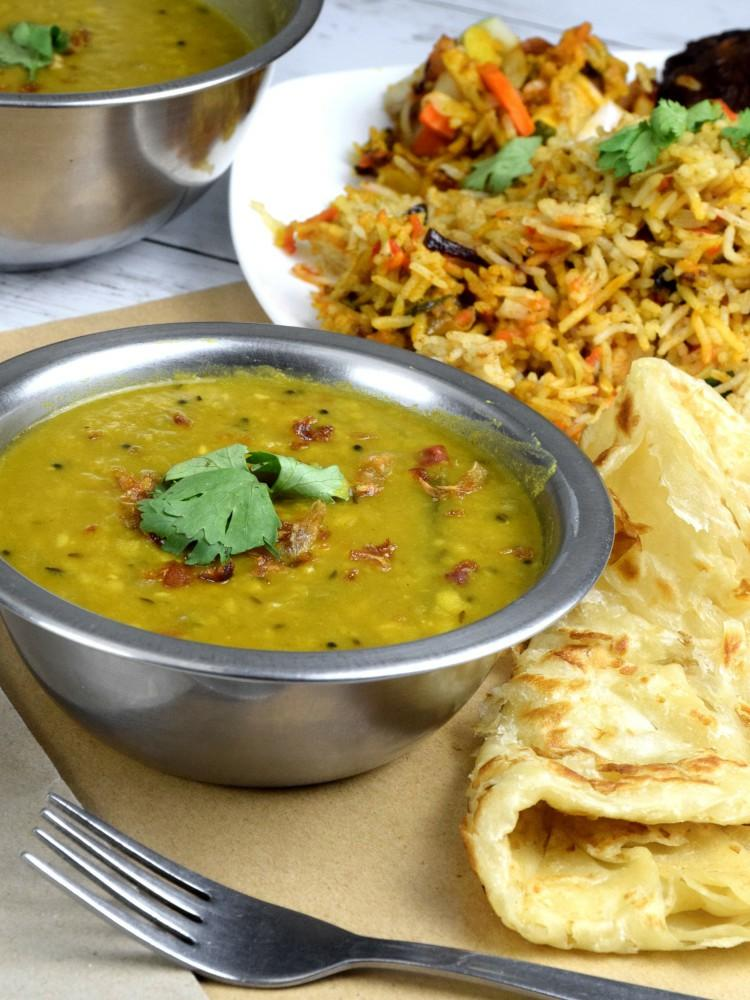Biryani: (276, 26, 750, 444)
Dal: (0, 366, 551, 649), (0, 0, 252, 96)
